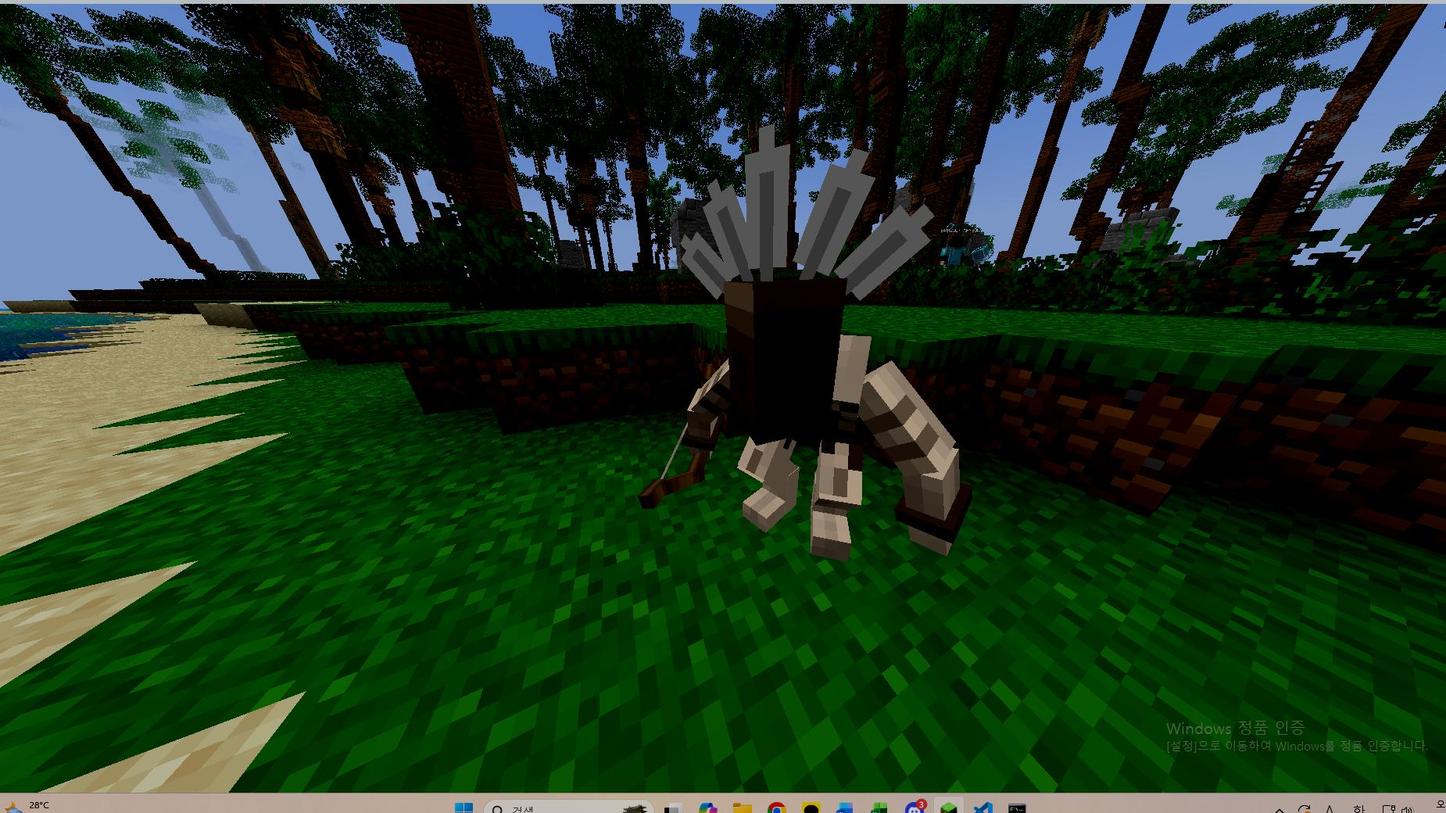bow_indian: (613, 145, 1020, 601)
